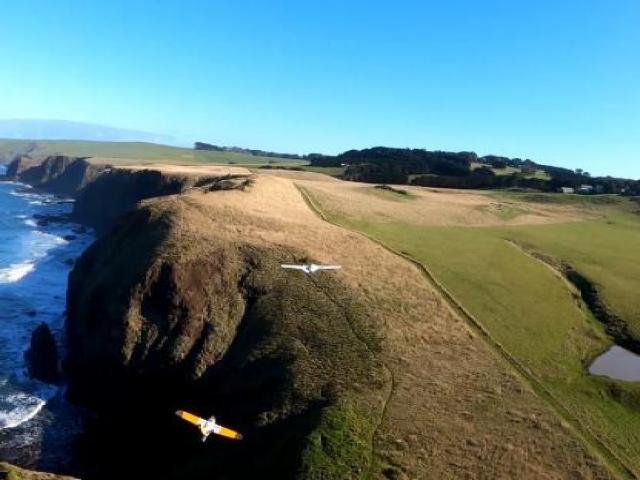uav: (172, 408, 245, 441), (276, 258, 344, 274)
